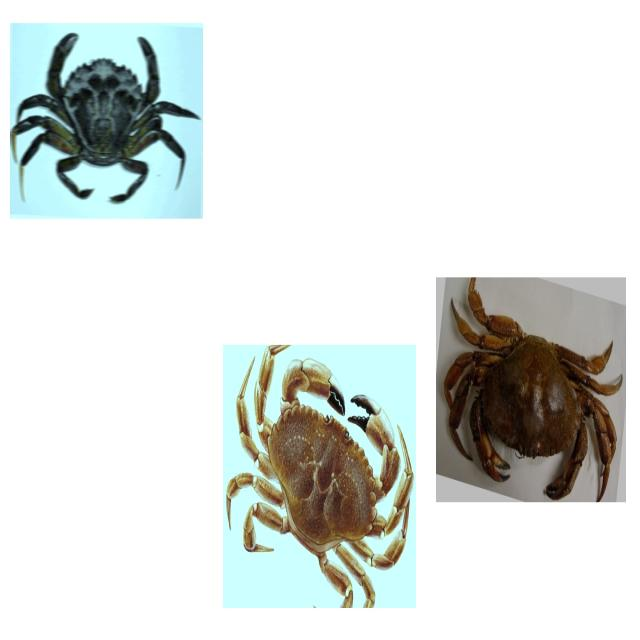egc: (8, 21, 203, 223)
jonah_crab: (224, 344, 418, 612)
rock_crab: (442, 279, 622, 501)
